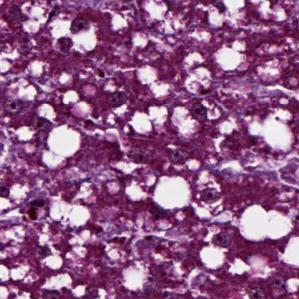steatosis: (154, 173, 192, 211), (46, 125, 80, 156), (210, 46, 244, 71)
